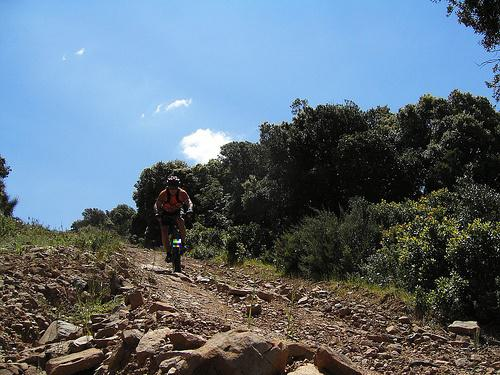car: (155, 209, 199, 277)
person: (153, 174, 197, 263)
